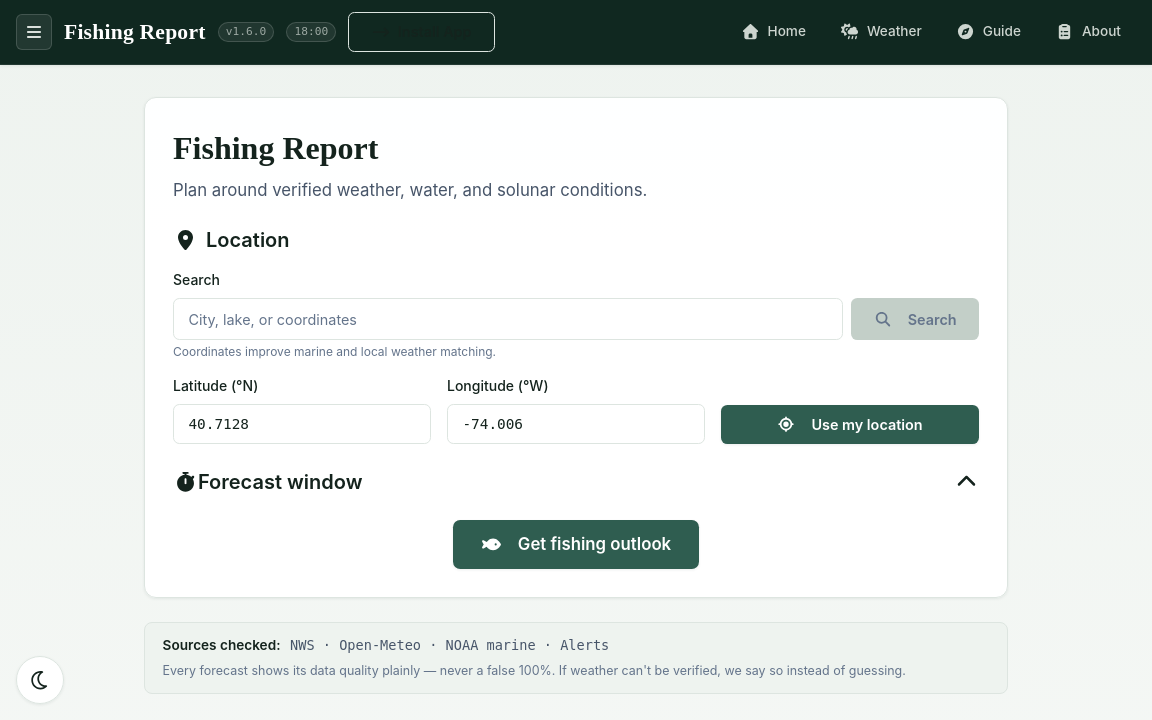
Test case: App header › runs the stored install prompt when the Install App control is activated
Click the button "Install App" at (422, 32), box [348,12,495,52]
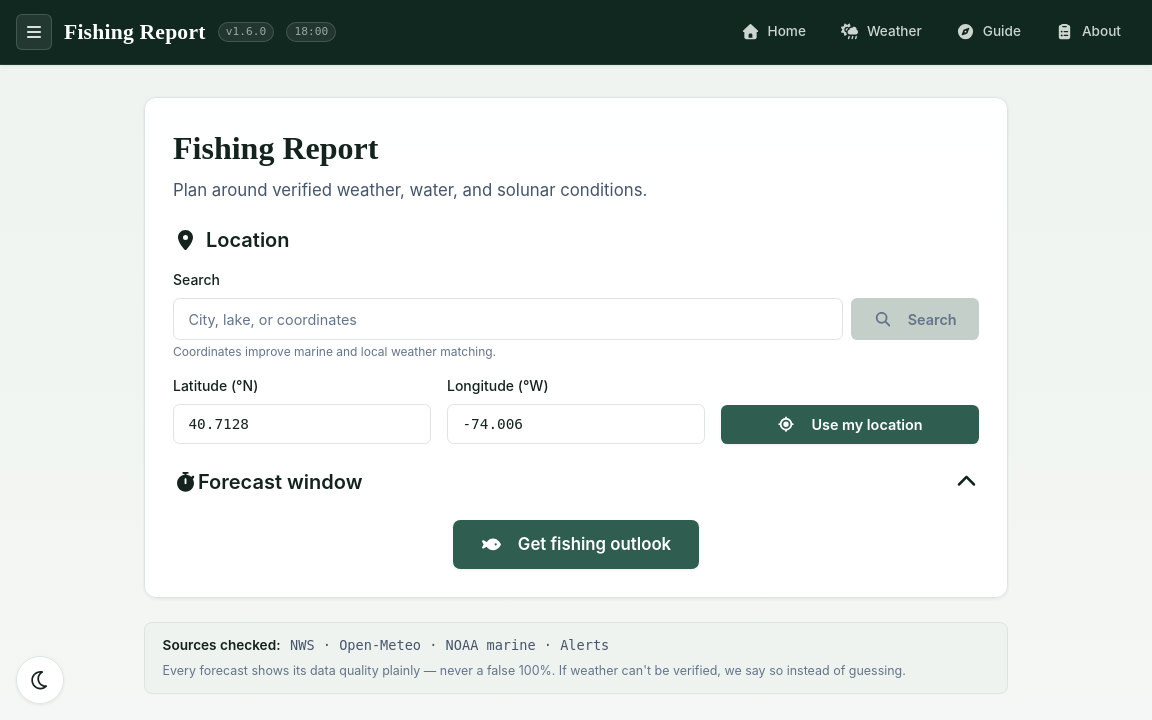
Expected: the button "Install App" is gone
